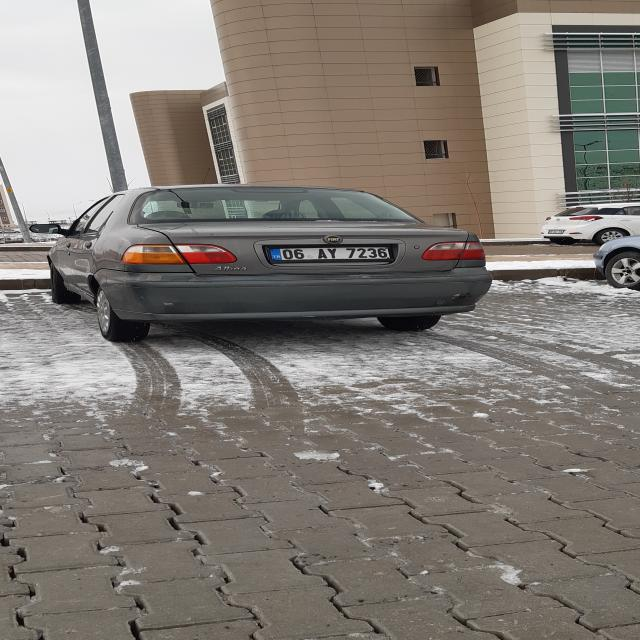plate: (268, 247, 392, 260)
